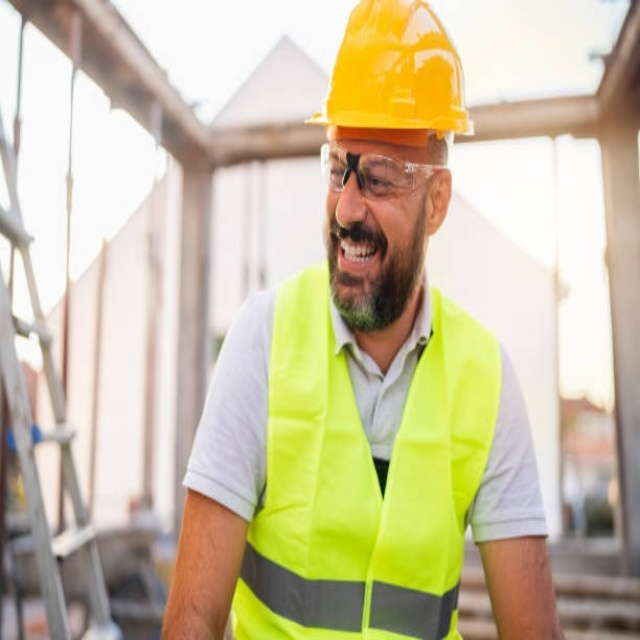Gafas: (317, 133, 448, 195)
Sin_mascara: (326, 218, 389, 303)
